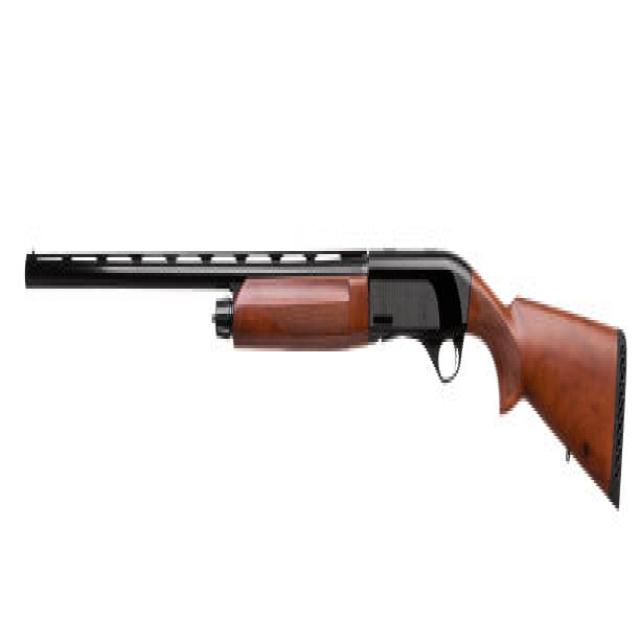rifle: (20, 222, 634, 533)
